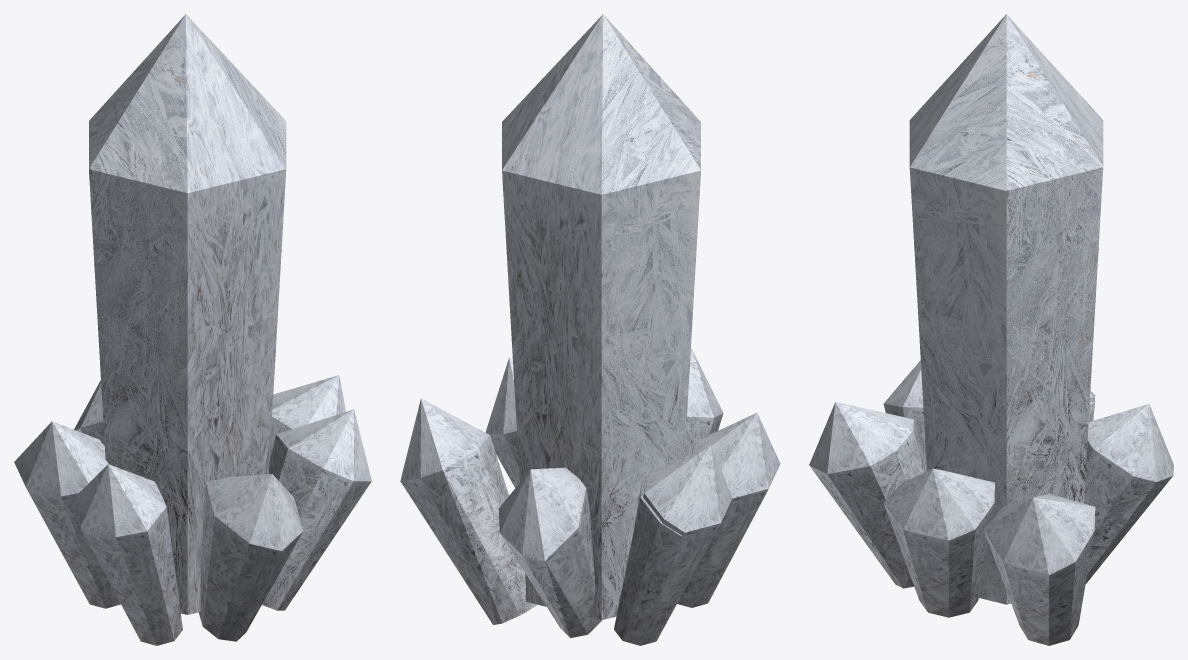
File: LampLight_3DAsset_BlueCrystal.FBX
The picture shows the model from 3 angles, left to right: view 1: azimuth 30°, elevation 25°; view 2: azimuth 150°, elevation 25°; view 3: azimuth 270°, elevation 25°; orthographic projection. The views are drawn at different scales.
Parts seen in each view (by area): view 1: Main_BlueCrystal, Crystal019, Crystal014, Crystal012, Crystal015, Crystal018, Crystal020; view 2: Main_BlueCrystal, Crystal018, Crystal020, Crystal015, Crystal014, Crystal016, Crystal012, Crystal019; view 3: Main_BlueCrystal, Crystal018, Crystal012, Crystal019, Crystal020, Crystal014.
Boxes of the visible parts, bbox=[...] form: Main_BlueCrystal: bbox=[89, 14, 286, 614]; Crystal019: bbox=[199, 474, 303, 641]; Crystal014: bbox=[69, 464, 182, 645]; Crystal012: bbox=[262, 409, 371, 610]; Crystal015: bbox=[14, 421, 120, 608]; Crystal018: bbox=[269, 375, 345, 461]; Crystal020: bbox=[74, 380, 104, 444]; Main_BlueCrystal: bbox=[502, 14, 700, 620]; Crystal018: bbox=[400, 398, 536, 624]; Crystal020: bbox=[498, 467, 602, 637]; Crystal015: bbox=[614, 445, 732, 645]; Crystal014: bbox=[677, 413, 780, 607]; Crystal016: bbox=[614, 479, 681, 640]; Crystal012: bbox=[485, 357, 519, 487]; Crystal019: bbox=[684, 349, 723, 456]; Main_BlueCrystal: bbox=[909, 14, 1103, 604]; Crystal018: bbox=[984, 493, 1095, 645]; Crystal012: bbox=[883, 468, 994, 617]; Crystal019: bbox=[809, 402, 926, 588]; Crystal020: bbox=[1084, 404, 1173, 583]; Crystal014: bbox=[883, 360, 926, 470].
Size of the model in its own units: 34.55 by 62.98 by 35.15.
